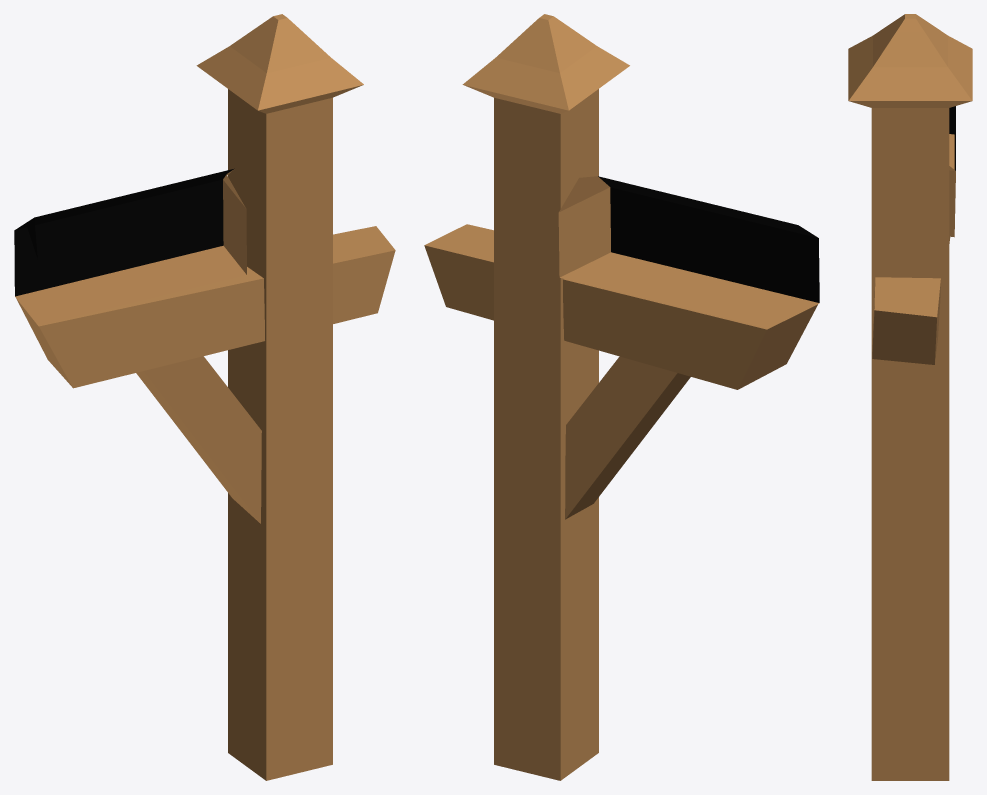
The model's file is mailbox.fbx.
The picture shows the model from 3 angles, left to right: view 1: azimuth 30°, elevation 25°; view 2: azimuth 150°, elevation 25°; view 3: azimuth 270°, elevation 25°; orthographic projection.
Visible parts, largest first — view 1: Cube; view 2: Cube; view 3: Cube.
Part boxes in pixels (box(x1,y1,x2,y2)): Cube: box(14, 14, 395, 780); Cube: box(424, 14, 819, 780); Cube: box(848, 14, 972, 780).
Bounding box in the file's own units: 449 × 869 × 130.
